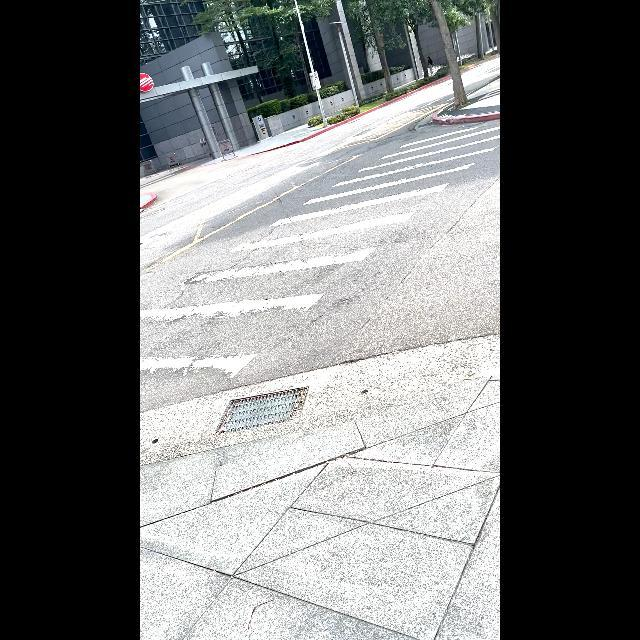sidewalk: (141, 116, 500, 413)
